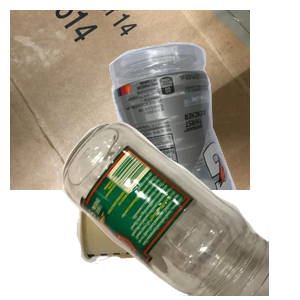cardboard: (10, 10, 250, 190)
glass: (60, 120, 300, 300)
plastic: (106, 40, 300, 220)
trash: (73, 164, 278, 300)
